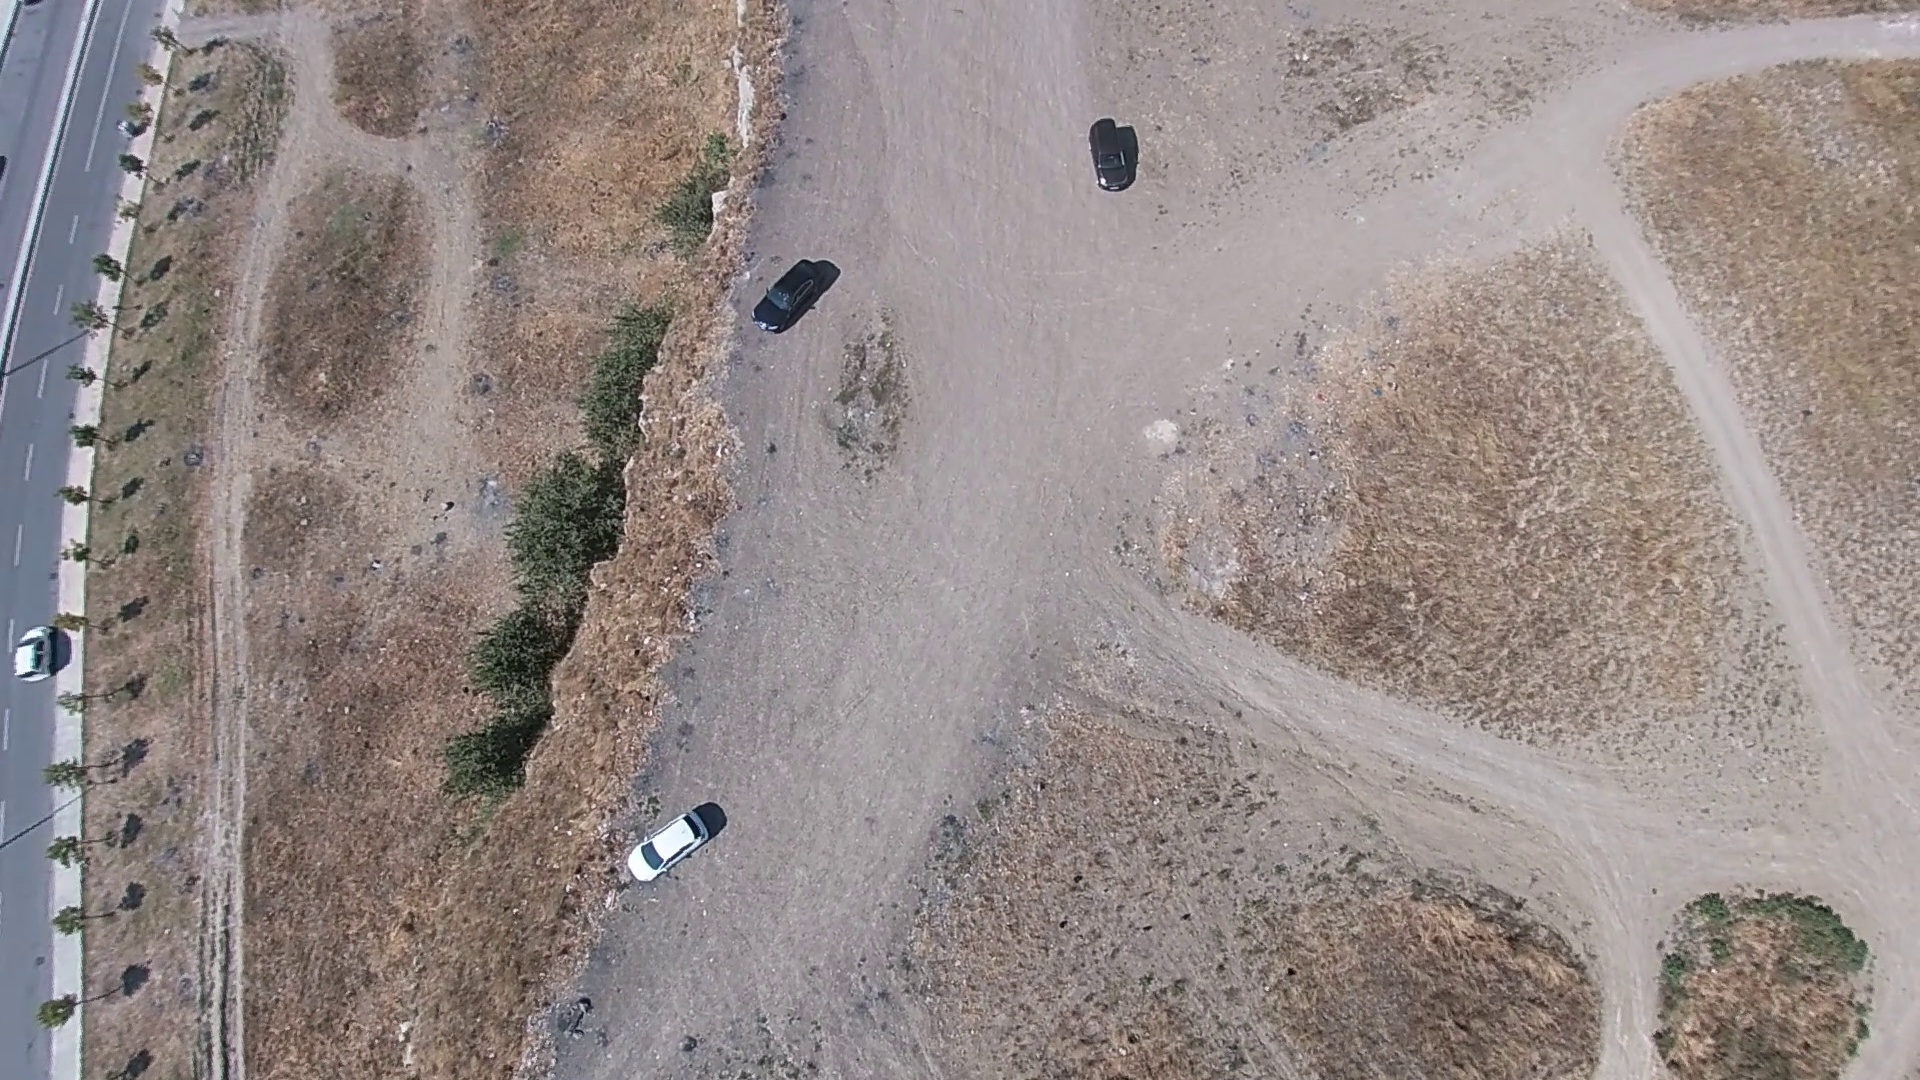arac: (624, 803, 723, 884), (745, 252, 835, 331), (11, 616, 67, 684), (1085, 117, 1138, 186)
